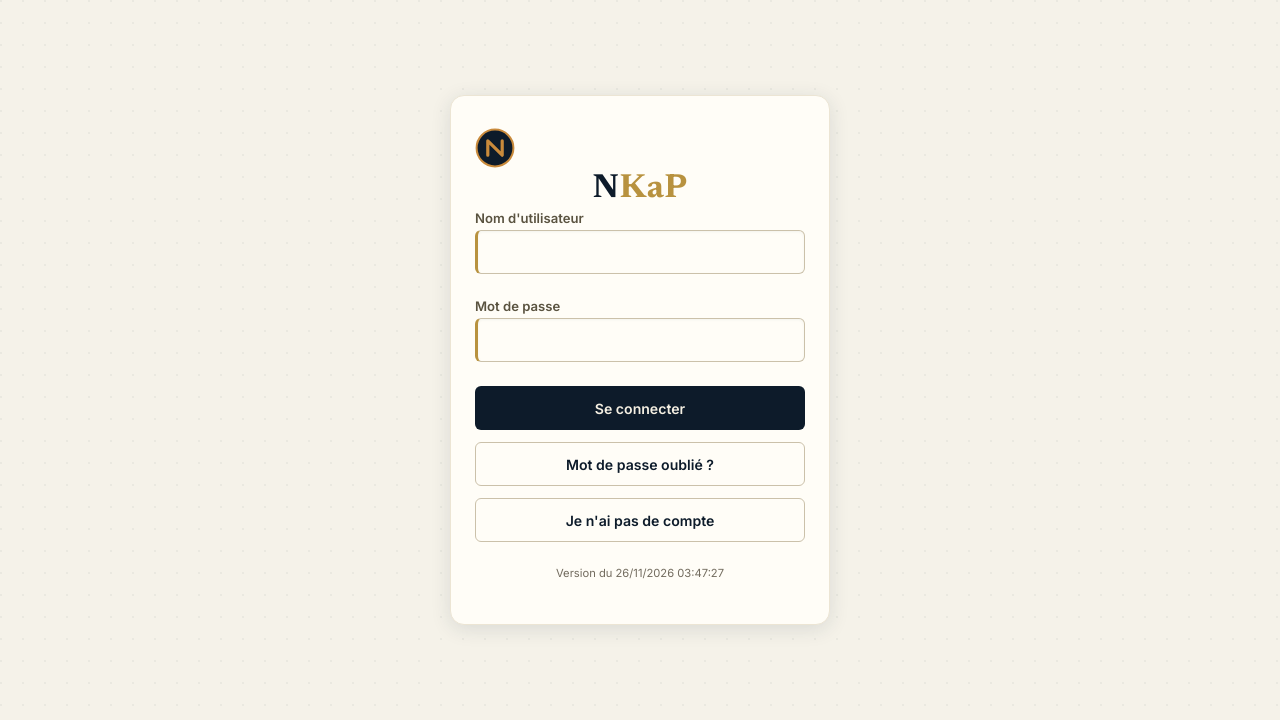
it: LoginScreen › can return to the login form from the forgot-password form
What coordinates should you click on to do the following:
click the button "Mot de passe oublié ?"
I would click on:
 (640, 464)
Its box is [475,442,805,486].
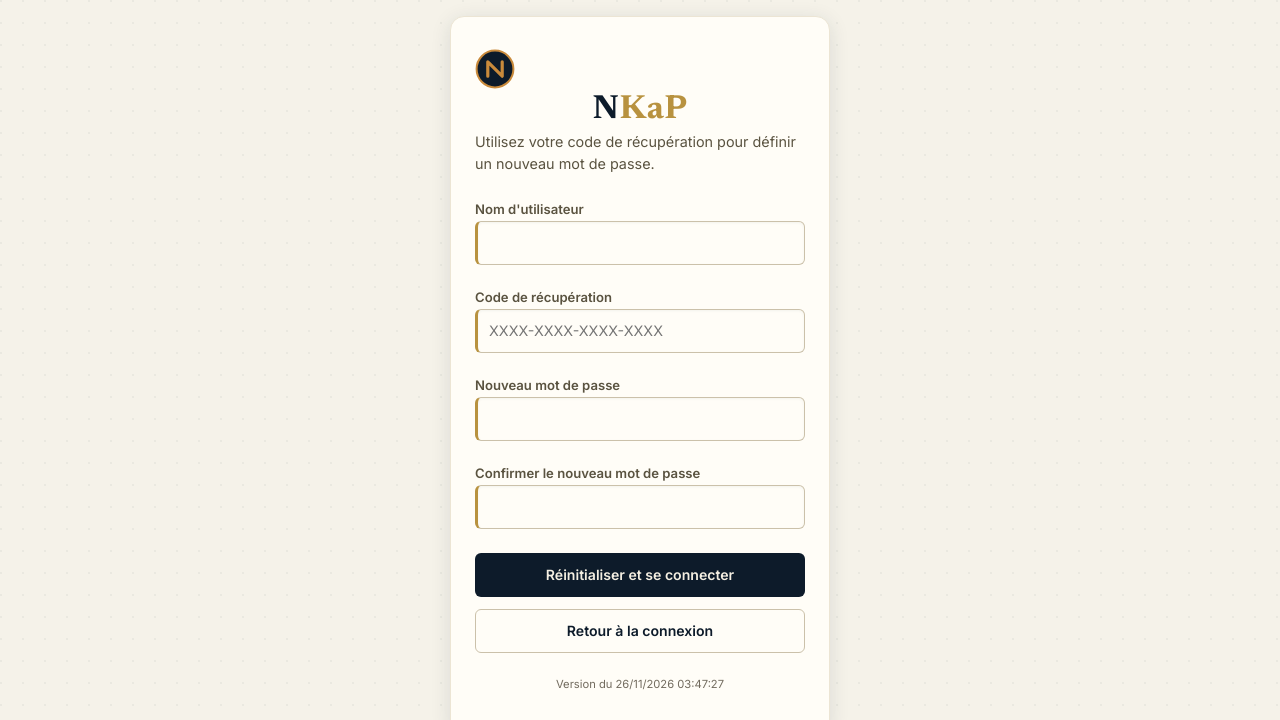
Result: the field labelled "Code de récupération" is shown at [475,309,805,353]
What coordinates should you click on to do the following:
click the button "Retour à la connexion"
I would click on:
 (640, 631)
Its box is [475,609,805,653].
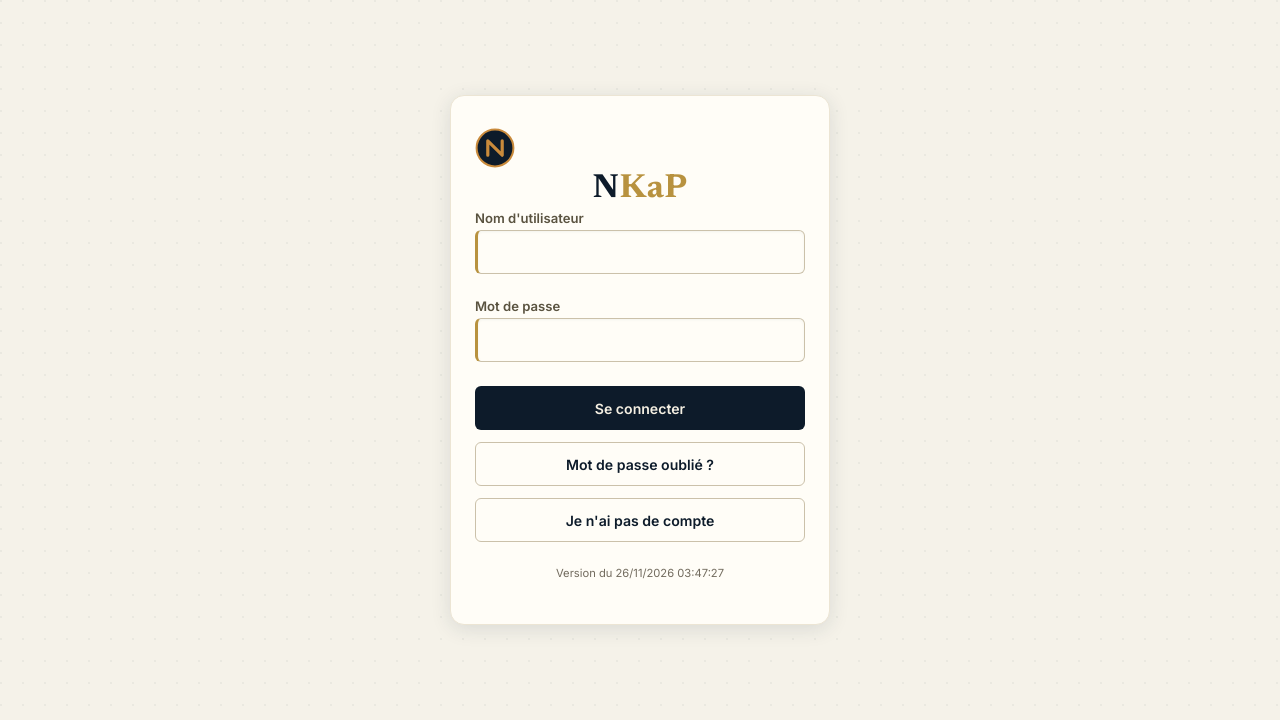
Result: the button "Se connecter" is shown at [475,386,805,430]
